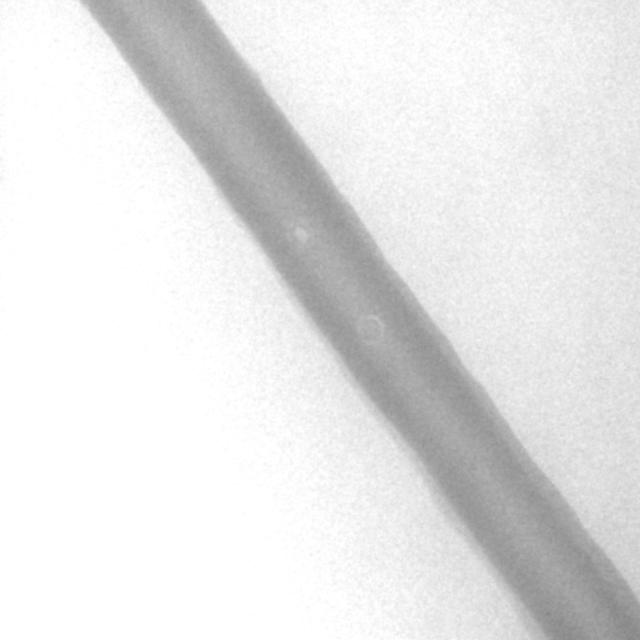air-hole: (296, 226, 307, 244)
